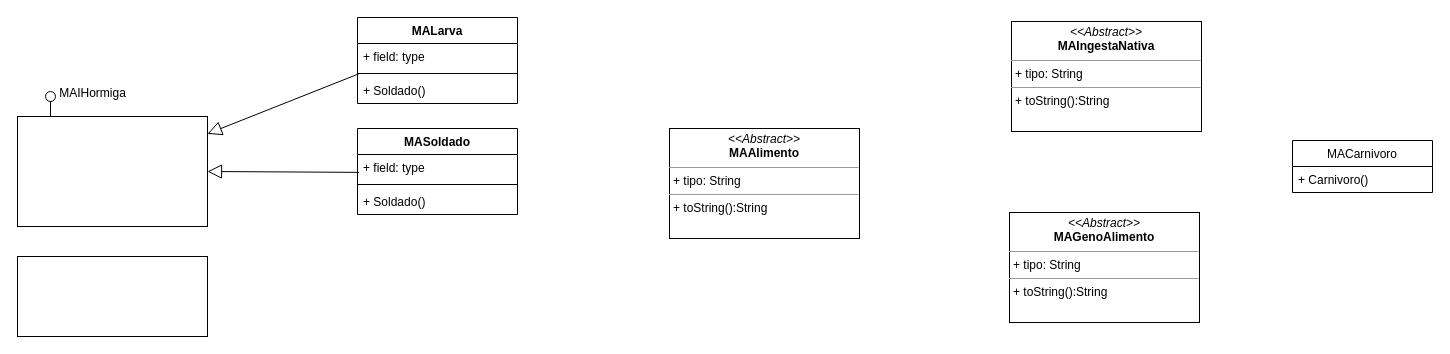
Some shapes in this 1450 by 354 pixel diagram are drawn without their labels. Each missing label, with the centre of its shape:
"<<Abstract>> MAHormiga + tipo: String + toString():String" goes at point (112, 171).
"<<Interface>> MAIHormiga + comer(Alimento) boolean" goes at point (112, 296).
